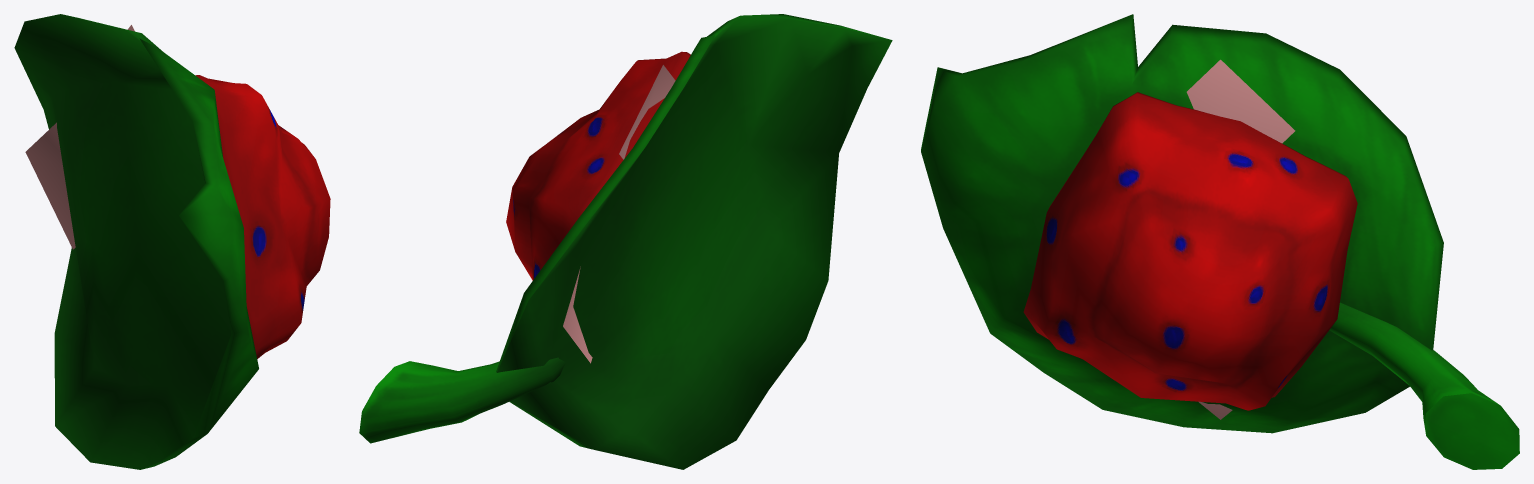
3 renders of one model, left to right at view 1: azimuth 30°, elevation 25°; view 2: azimuth 150°, elevation 25°; view 3: azimuth 270°, elevation 25°, orthographic. The views are drawn at different scales.
Parts seen in each view (by area): view 1: "Editable Poly", PolyMesh; view 2: "Editable Poly", PolyMesh; view 3: "Editable Poly", PolyMesh.
Part boxes in pixels (x1,y1,x2,y2): "Editable Poly": [14, 14, 330, 469]; PolyMesh: [25, 25, 134, 249]; "Editable Poly": [359, 14, 892, 469]; PolyMesh: [563, 65, 675, 363]; "Editable Poly": [921, 14, 1519, 469]; PolyMesh: [1186, 59, 1295, 419].
Bounding box in the file's own units: 0.2927 × 0.4458 × 0.579.
